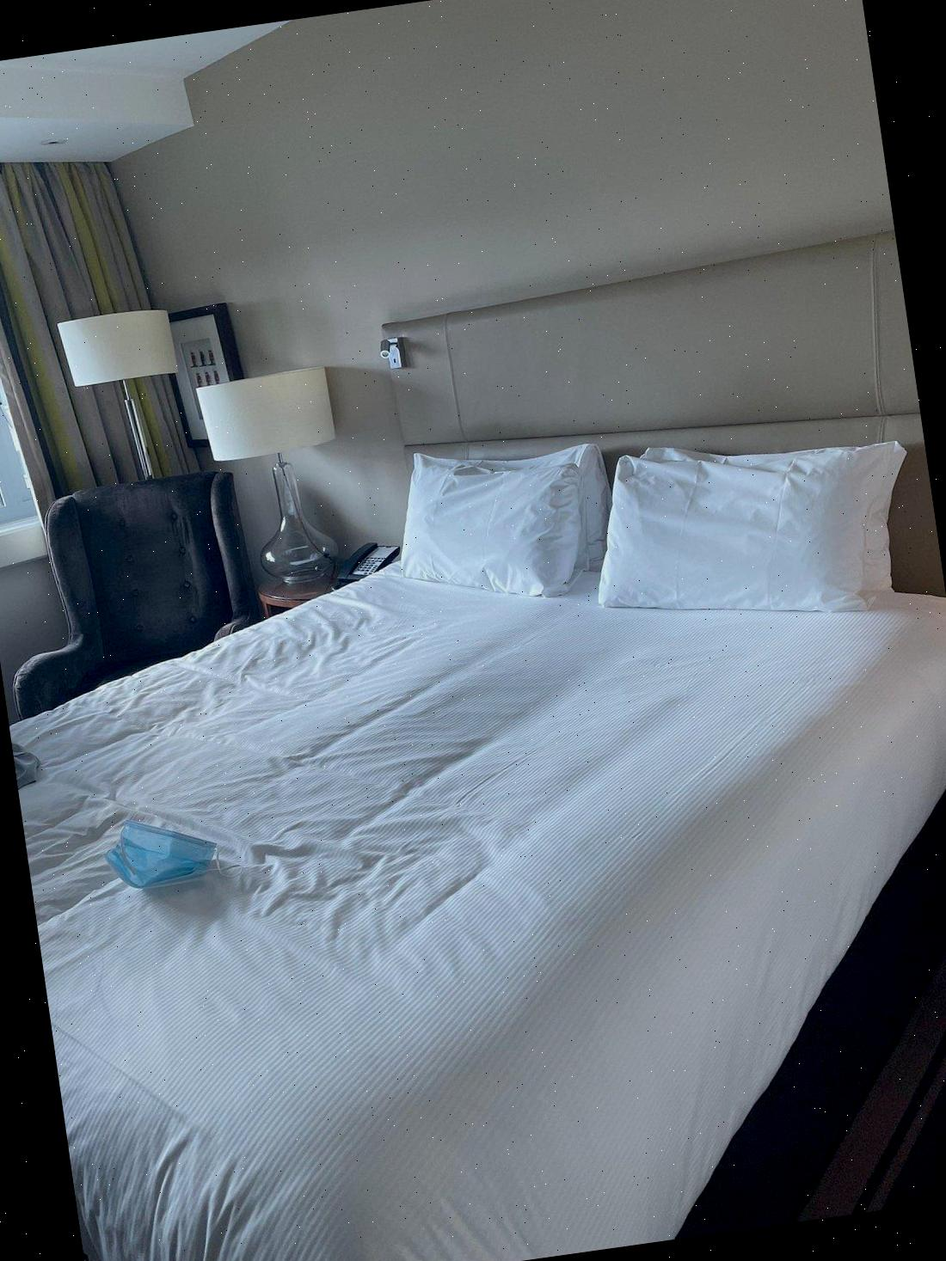chair: (13, 471, 233, 719)
lamp: (213, 366, 375, 597), (50, 308, 206, 493)
messy_bed: (15, 401, 946, 1261)
organised_pillow: (390, 444, 886, 602)
